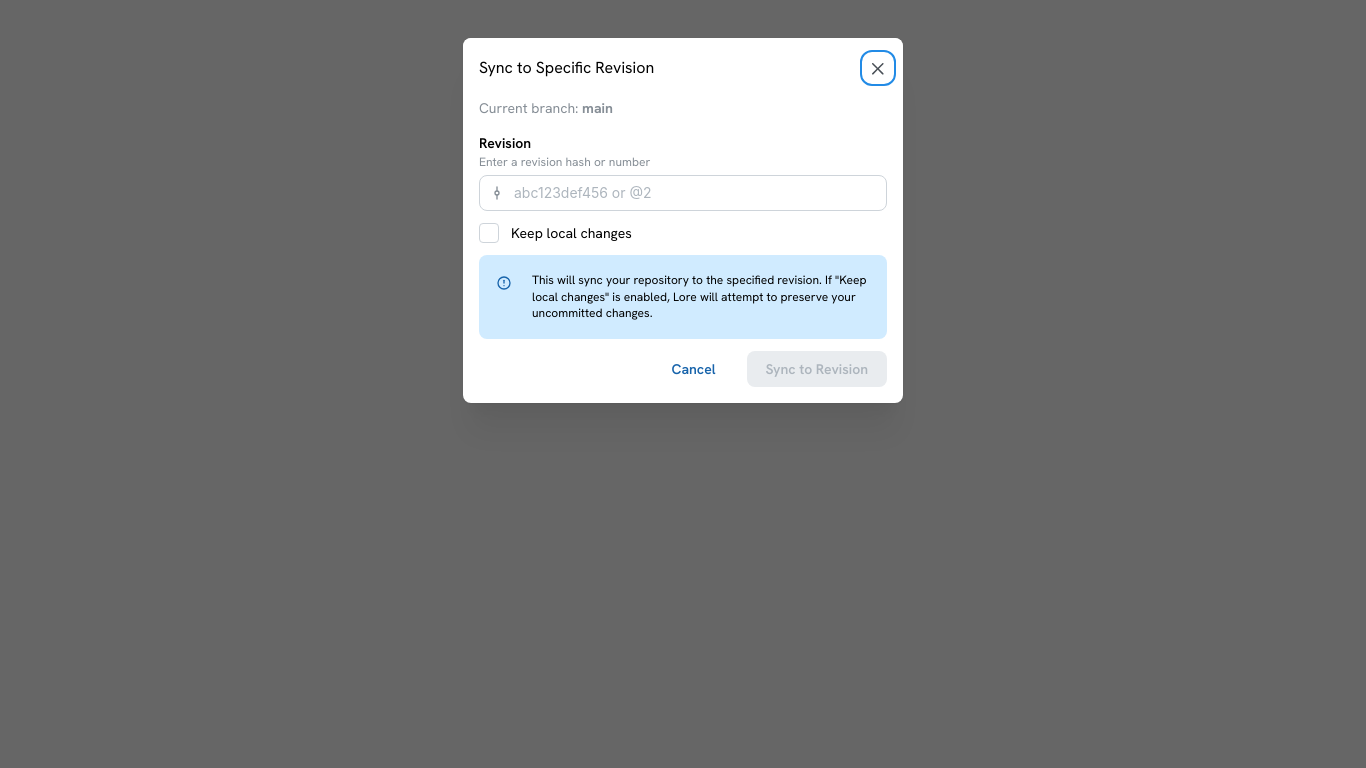
Test case: RevisionSyncModal › should reject a short non-shorthand revision
// entering a five-character hash and syncing
Type "abc12" into the field labelled "Revision".
click(683, 193); type("abc12")  # box [479,175,887,211]
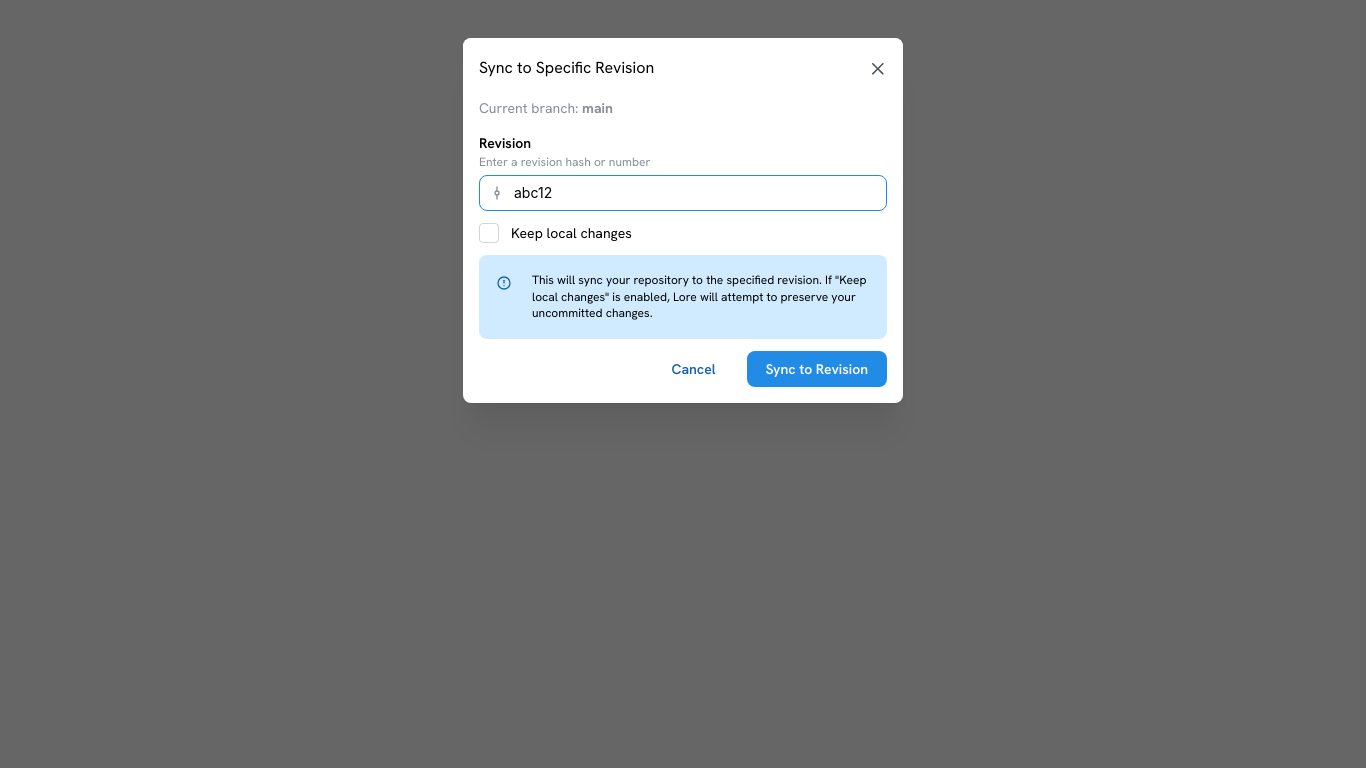
Click the button "Sync to Revision".
click(817, 369)  # box [746,351,887,387]
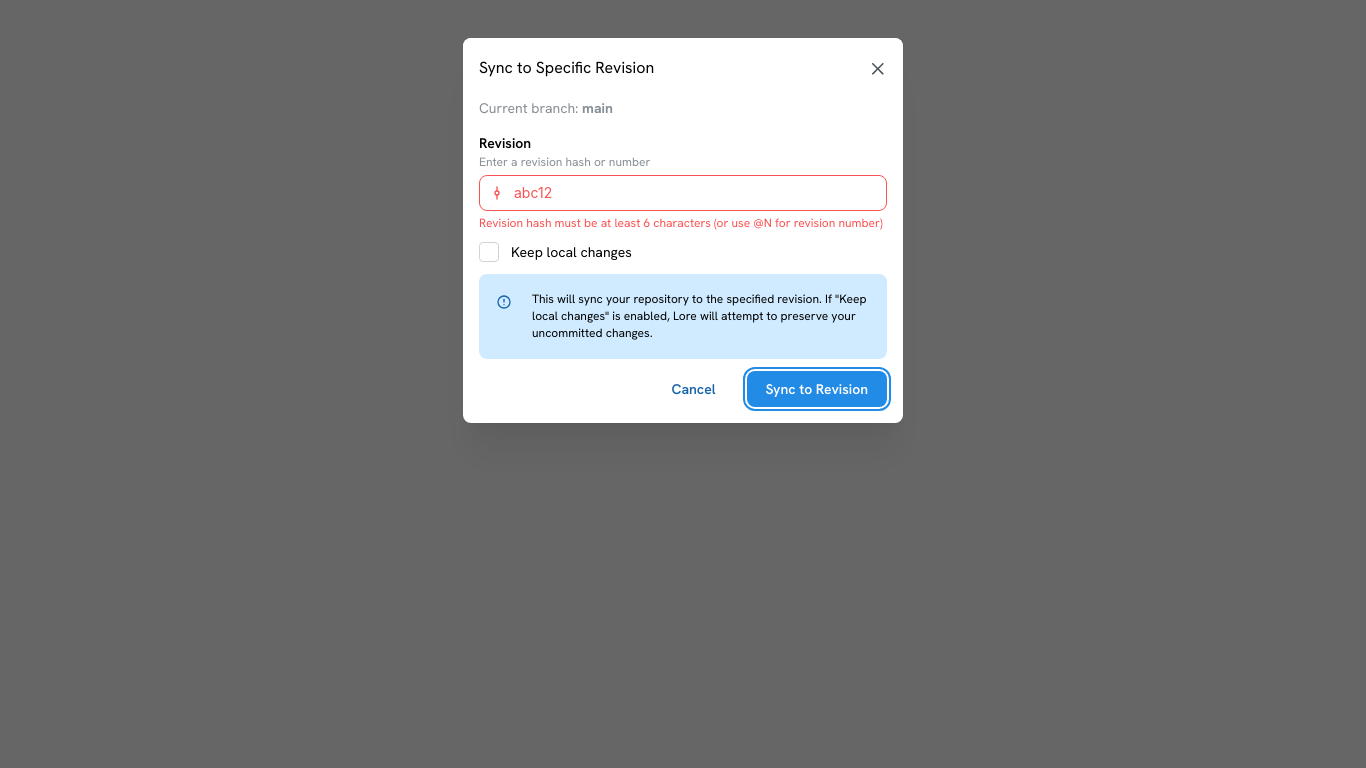
Expected: the text "at least 6 characters" is shown, [479,215,883,231]
